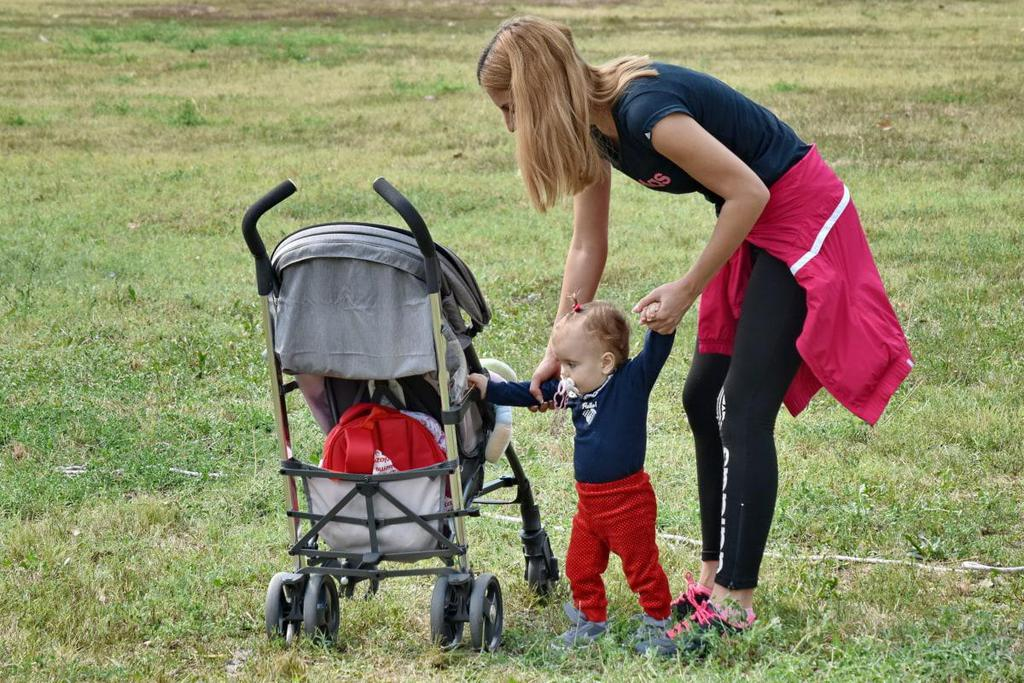child: (457, 290, 687, 658)
